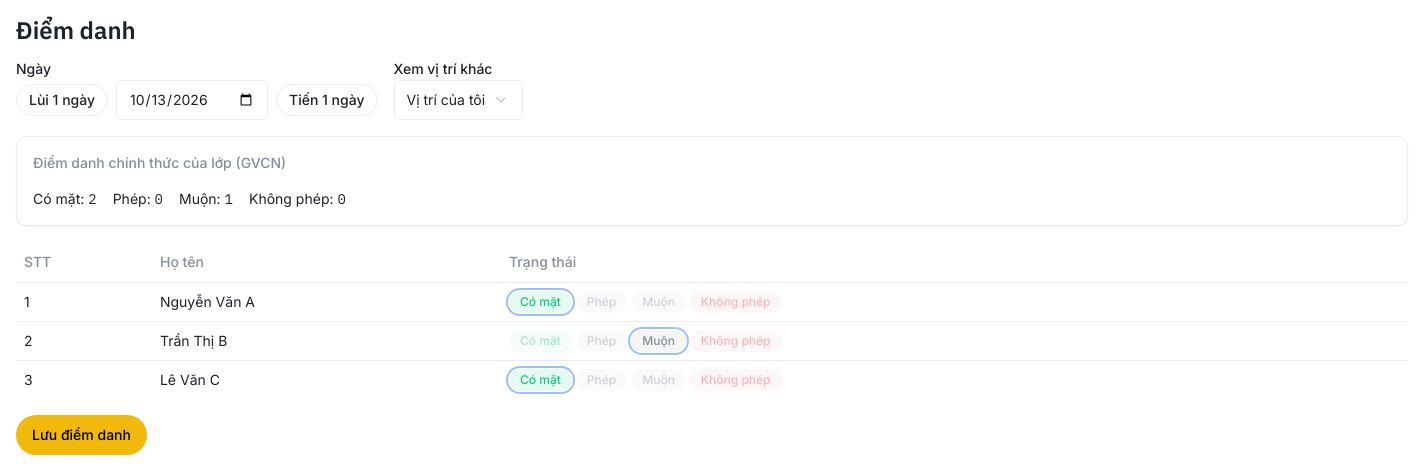
Test: (e) GVCN giữ HOMEROOM + chọn xem 1 vị trí SUBJECT khác → ẩn hết control ghi, chỉ hiện bảng đọc
Select "Toán" in the dropdown labelled "Xem vị trí khác" at (458, 100), box [394,80,522,120]
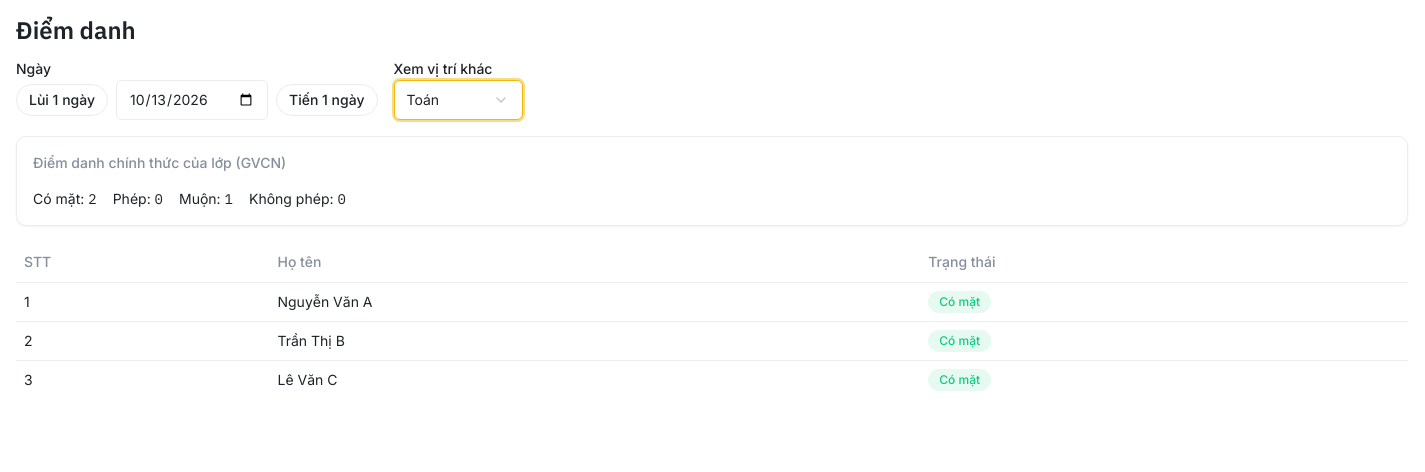
Expected: the text "Có mặt" in the row of "Nguyễn Văn A" is shown, [939,294,980,308]
Now the button "Lưu điểm danh" is gone
